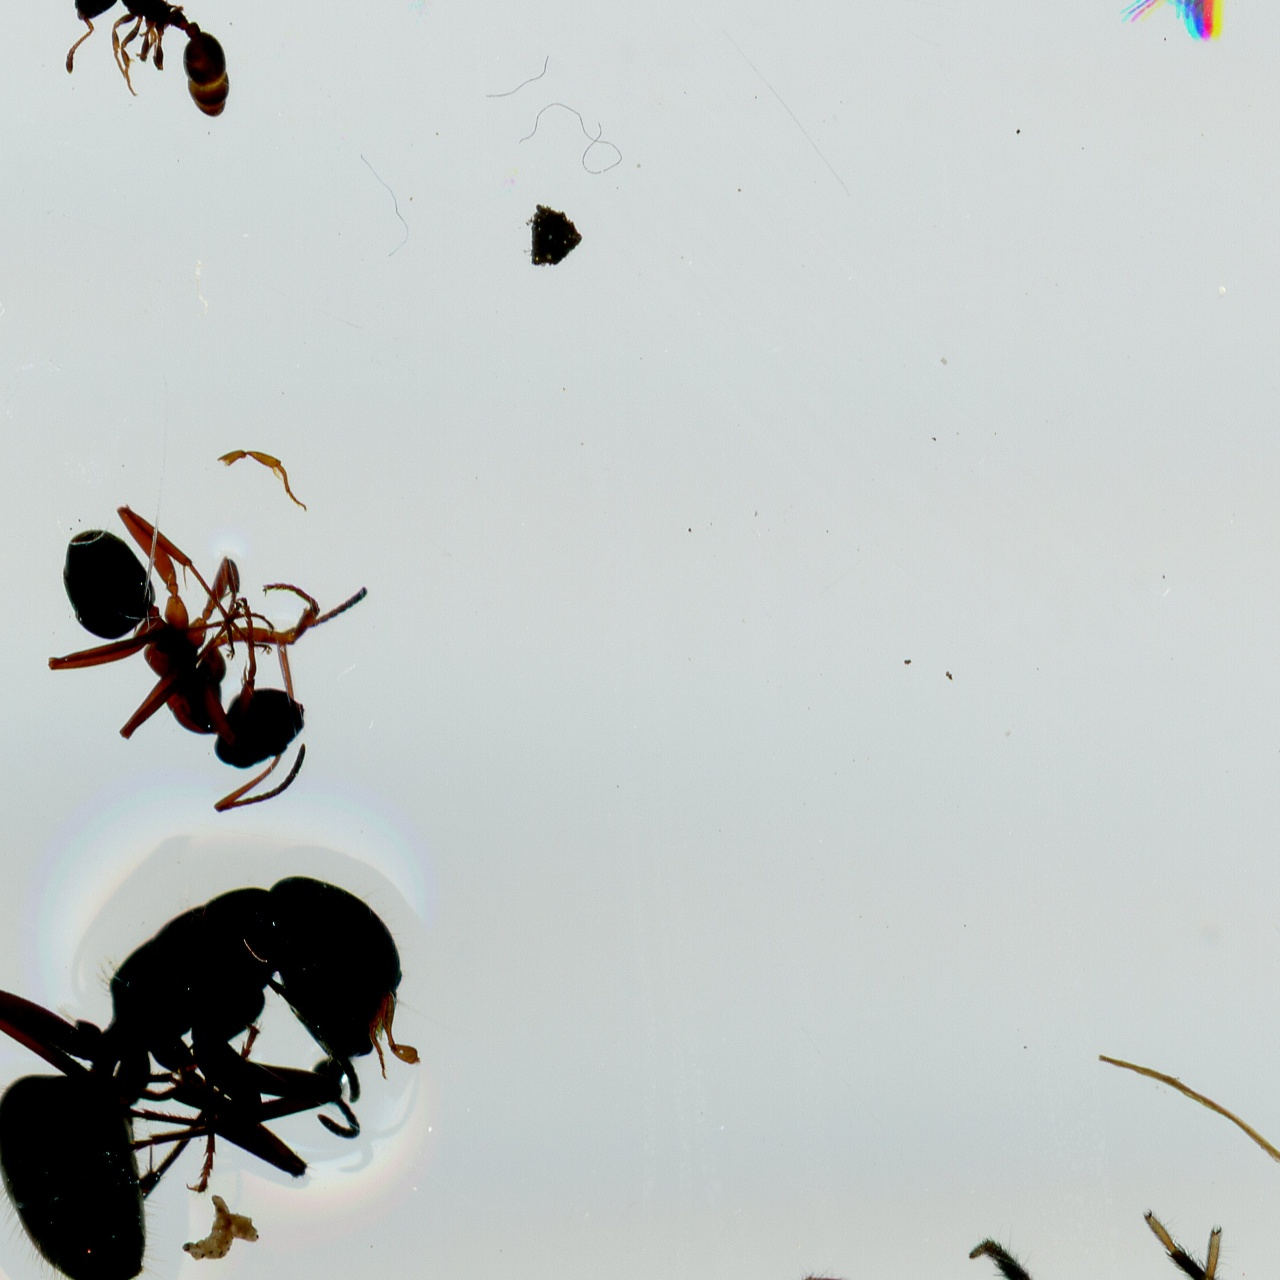arthropod: (0, 867, 434, 1280), (39, 499, 373, 818), (740, 1198, 1234, 1280), (62, 0, 233, 121), (1118, 0, 1231, 47)
